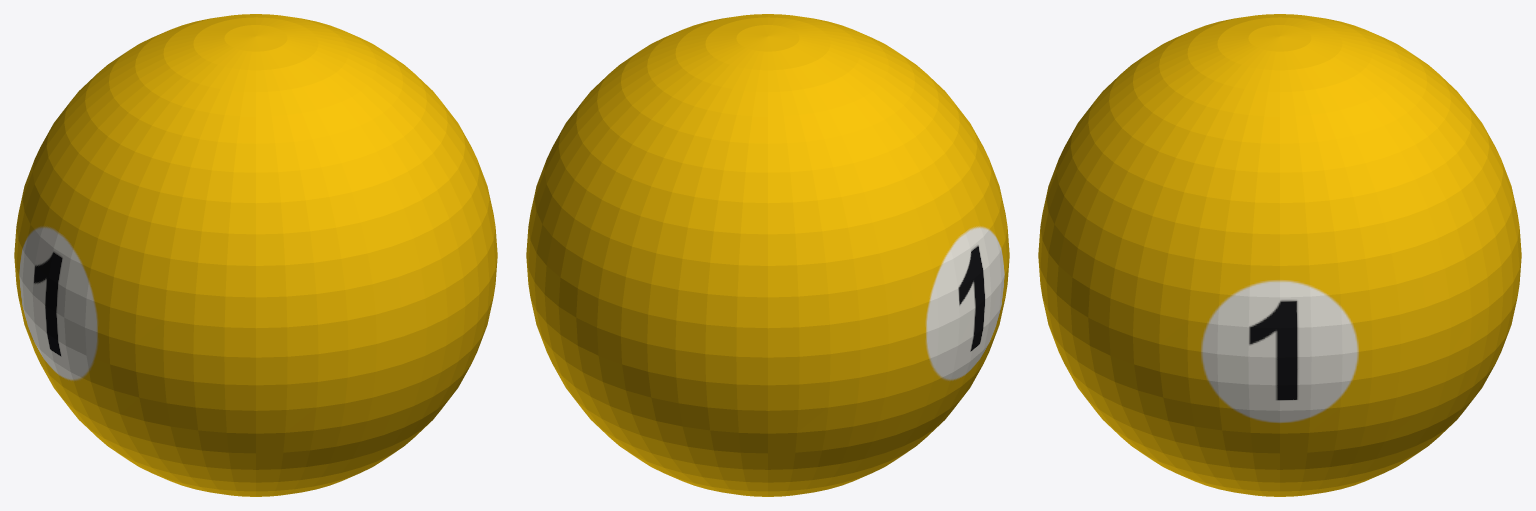
Rendered from ball_1.obj.
3 views of the same model, side by side, from view 1: azimuth 30°, elevation 25°; view 2: azimuth 150°, elevation 25°; view 3: azimuth 270°, elevation 25° (orthographic).
Size of the model in its own units: 0.0571 by 0.0571 by 0.0571.
1 material, 1 textured.
